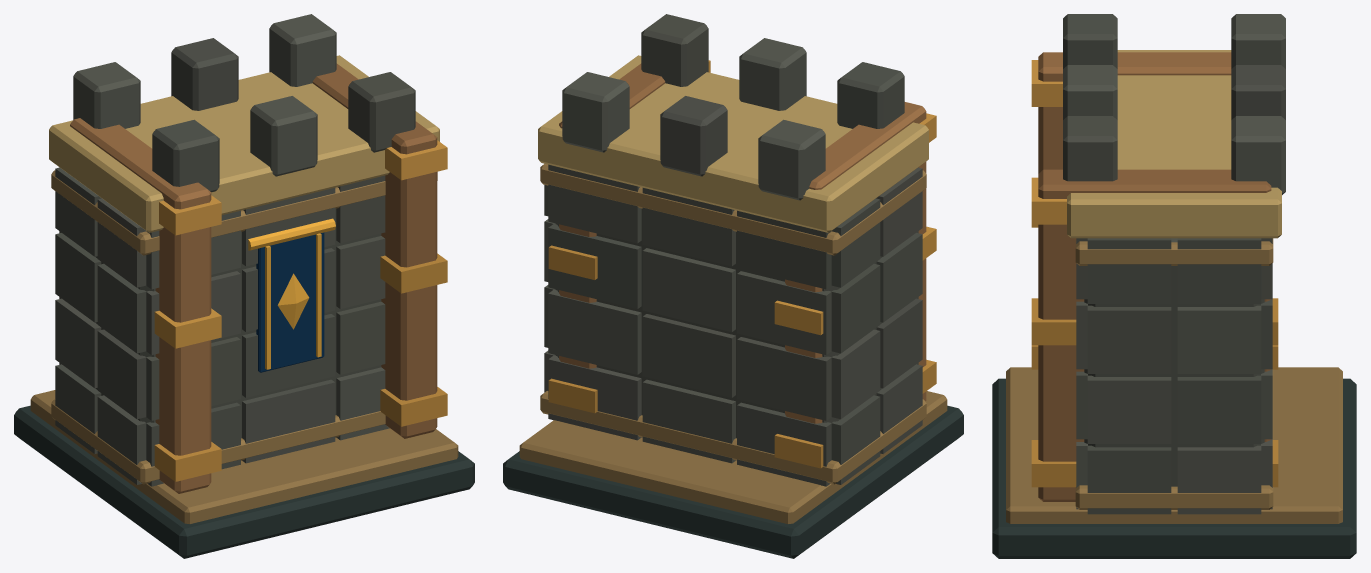
3 renders of one model, left to right at view 1: azimuth 30°, elevation 25°; view 2: azimuth 150°, elevation 25°; view 3: azimuth 270°, elevation 25°, orthographic. The views are drawn at different scales.
Visible parts, largest first — view 1: wall_L2_0, wall_L2_1; view 2: wall_L2_0, wall_L2_1; view 3: wall_L2_0, wall_L2_1.
Part boxes in pixels (left/top/right/bottom): wall_L2_0: left=14, top=14, right=474, bottom=558; wall_L2_1: left=154, top=140, right=447, bottom=481; wall_L2_0: left=503, top=14, right=963, bottom=558; wall_L2_1: left=548, top=60, right=936, bottom=468; wall_L2_0: left=992, top=14, right=1356, bottom=558; wall_L2_1: left=1031, top=60, right=1278, bottom=487.
Size of the model in its own units: 1.87 by 2.31 by 1.86.
